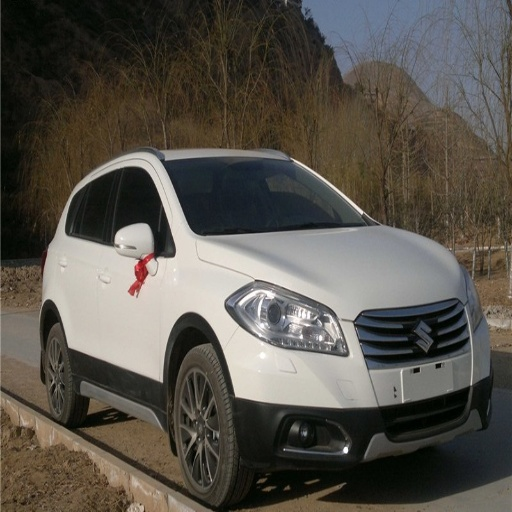front_bumper: (224, 298, 490, 466)
front_right_door: (98, 159, 168, 396)
front_right_light: (226, 280, 350, 356)
